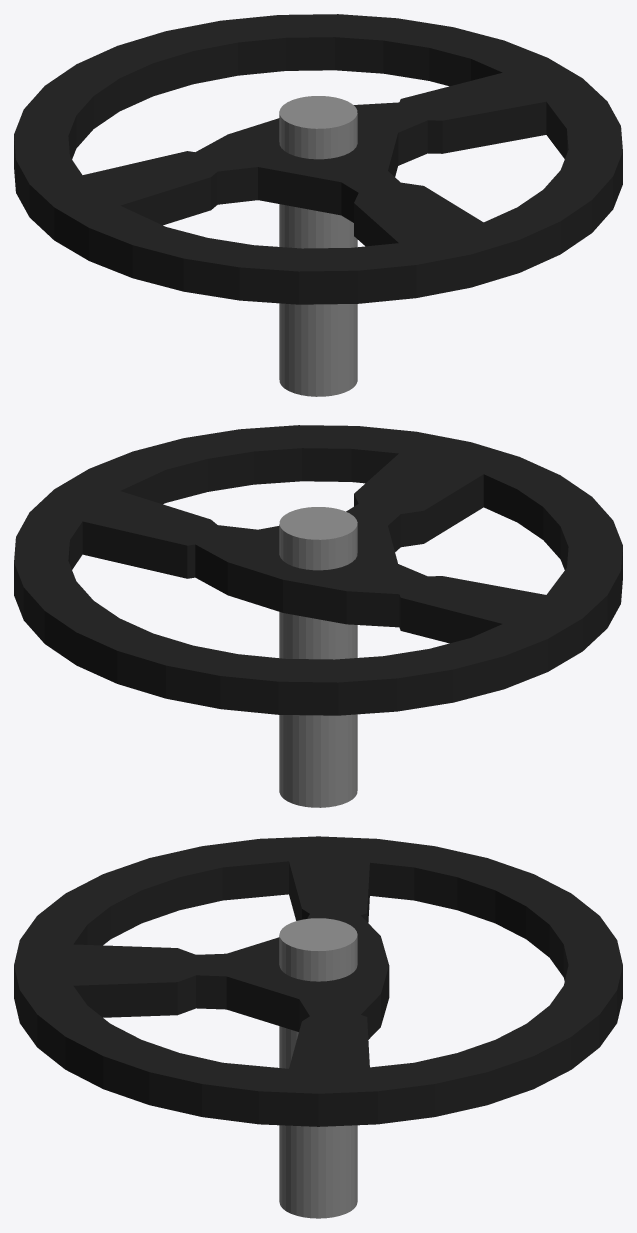
File: steeringwheel.fbx
The picture shows the model from 3 angles, top to bottom: view 1: azimuth 30°, elevation 25°; view 2: azimuth 150°, elevation 25°; view 3: azimuth 270°, elevation 25°; orthographic projection.
Parts seen in each view (by area): view 1: Cylinder.001; view 2: Cylinder.001; view 3: Cylinder.001.
Boxes of the visible parts, x1,y1,x2,y2 form: Cylinder.001: [14, 14, 622, 396]; Cylinder.001: [14, 425, 622, 807]; Cylinder.001: [14, 836, 622, 1218].
Bounding box in the file's own units: 200 × 96.9 × 200.
